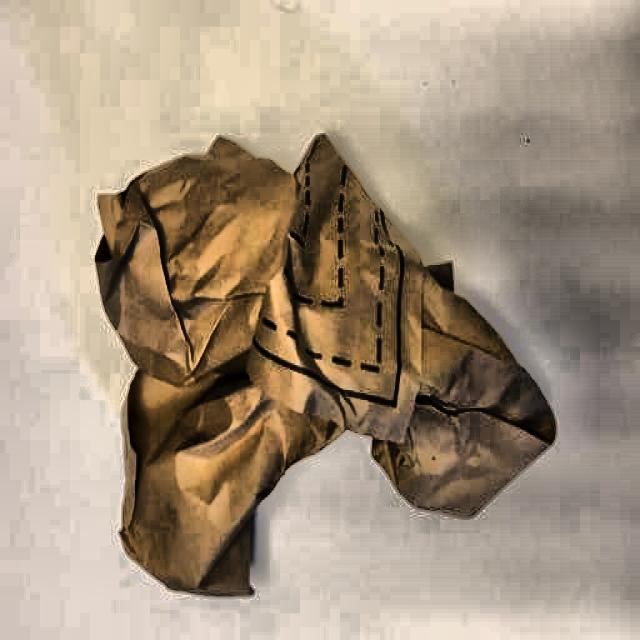paper: (88, 134, 558, 596)
